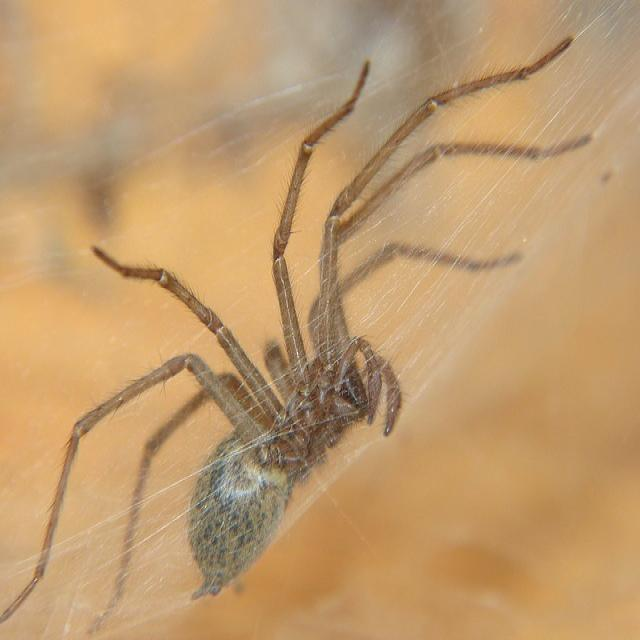spyder: (11, 39, 592, 609), (104, 401, 198, 617)
